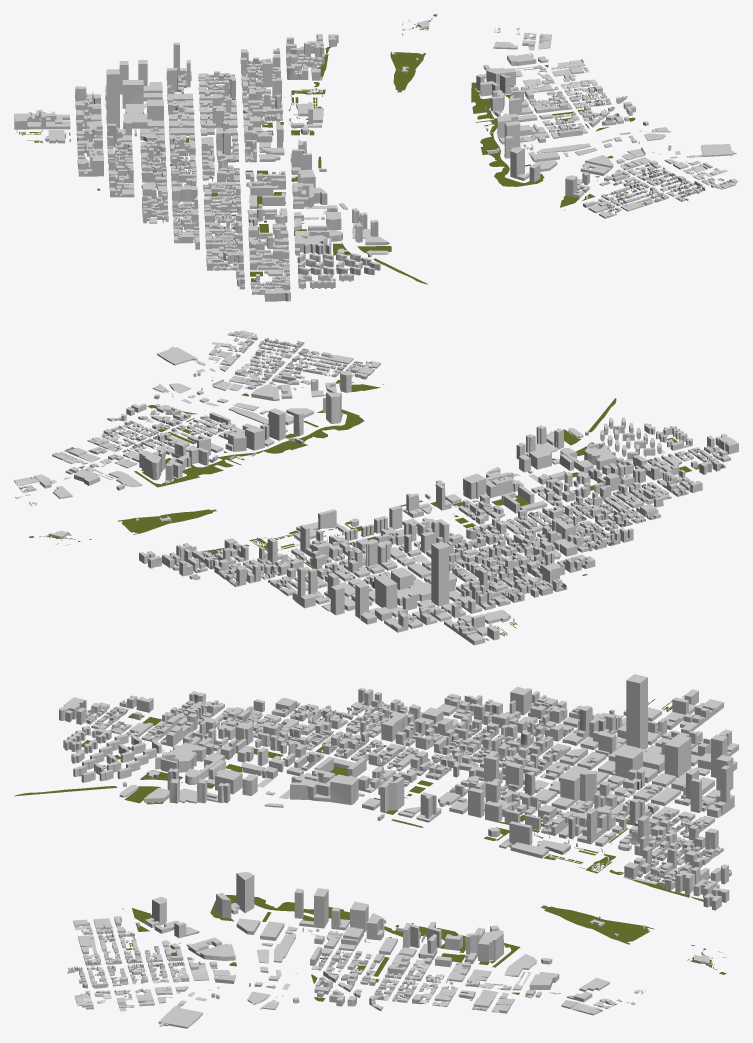
The model's file is area8_lod0-transformed.glb.
The picture shows the model from 3 angles, top to bottom: view 1: azimuth 30°, elevation 25°; view 2: azimuth 150°, elevation 25°; view 3: azimuth 270°, elevation 25°; orthographic projection. The views are drawn at different scales.
Visible parts, largest first — view 1: Areas:building.006, Areas:leisure.005; view 2: Areas:building.006, Areas:leisure.005; view 3: Areas:building.006, Areas:leisure.005.
Boxes of the visible parts, box(x1,y1,x2,y2) form: Areas:building.006: box(14, 20, 738, 301); Areas:leisure.005: box(19, 14, 635, 284); Areas:building.006: box(14, 330, 738, 645); Areas:leisure.005: box(29, 350, 699, 635); Areas:building.006: box(59, 674, 738, 1028); Areas:leisure.005: box(14, 699, 726, 1001).
Size of the model in its own units: 3990 by 397 by 3705.
